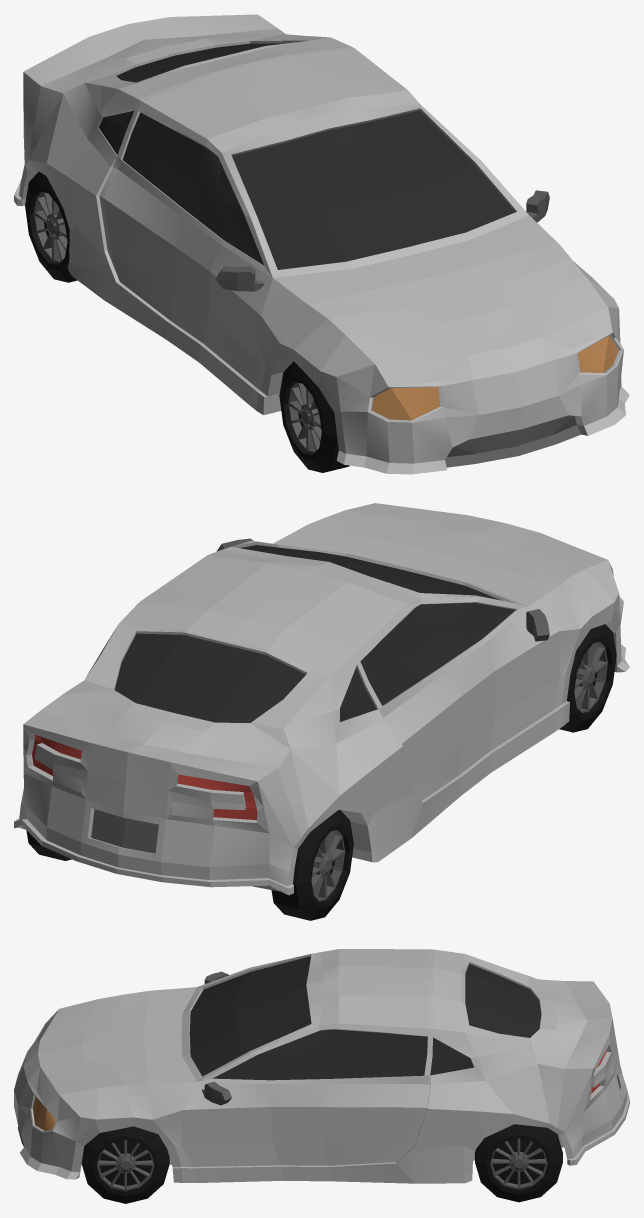
Rendered from SportsCar2.glb.
3 views of the same model, one above another, from view 1: azimuth 30°, elevation 25°; view 2: azimuth 150°, elevation 25°; view 3: azimuth 270°, elevation 25° (orthographic). The views are drawn at different scales.
Parts seen in each view (by area): view 1: SportsCar2; view 2: SportsCar2; view 3: SportsCar2.
Boxes of the visible parts, x1,y1,x2,y2 form: SportsCar2: [14, 14, 629, 474]; SportsCar2: [14, 503, 629, 920]; SportsCar2: [14, 949, 629, 1203].
Size of the model in its own units: 1.87 by 1.2 by 3.93.
